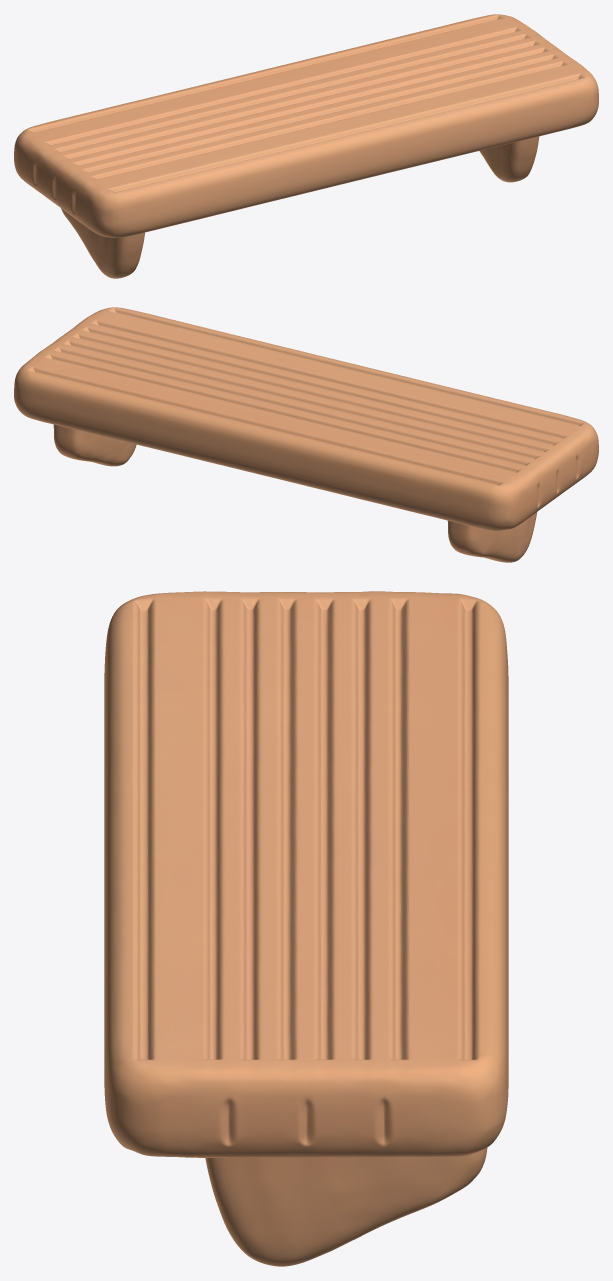
Rendered from WallShelf.fbx.
3 renders of one model, top to bottom at view 1: azimuth 30°, elevation 25°; view 2: azimuth 150°, elevation 25°; view 3: azimuth 270°, elevation 25°, orthographic. The views are drawn at different scales.
Parts seen in each view (by area): view 1: peach bench 3d model; view 2: peach bench 3d model; view 3: peach bench 3d model.
Part boxes in pixels (x1,y1,x2,y2): peach bench 3d model: [14, 14, 598, 278]; peach bench 3d model: [14, 307, 598, 562]; peach bench 3d model: [104, 591, 508, 1266].
Size of the model in its own units: 1 by 0.228 by 0.347.
Materials: 1 (1 with a texture image).
